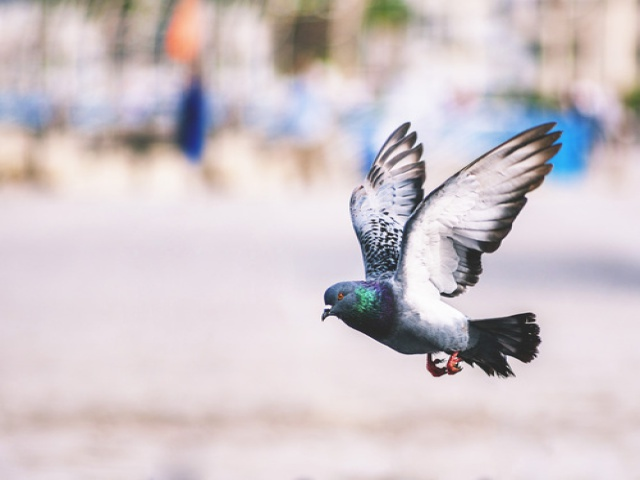Pigeon: (312, 118, 568, 382)
